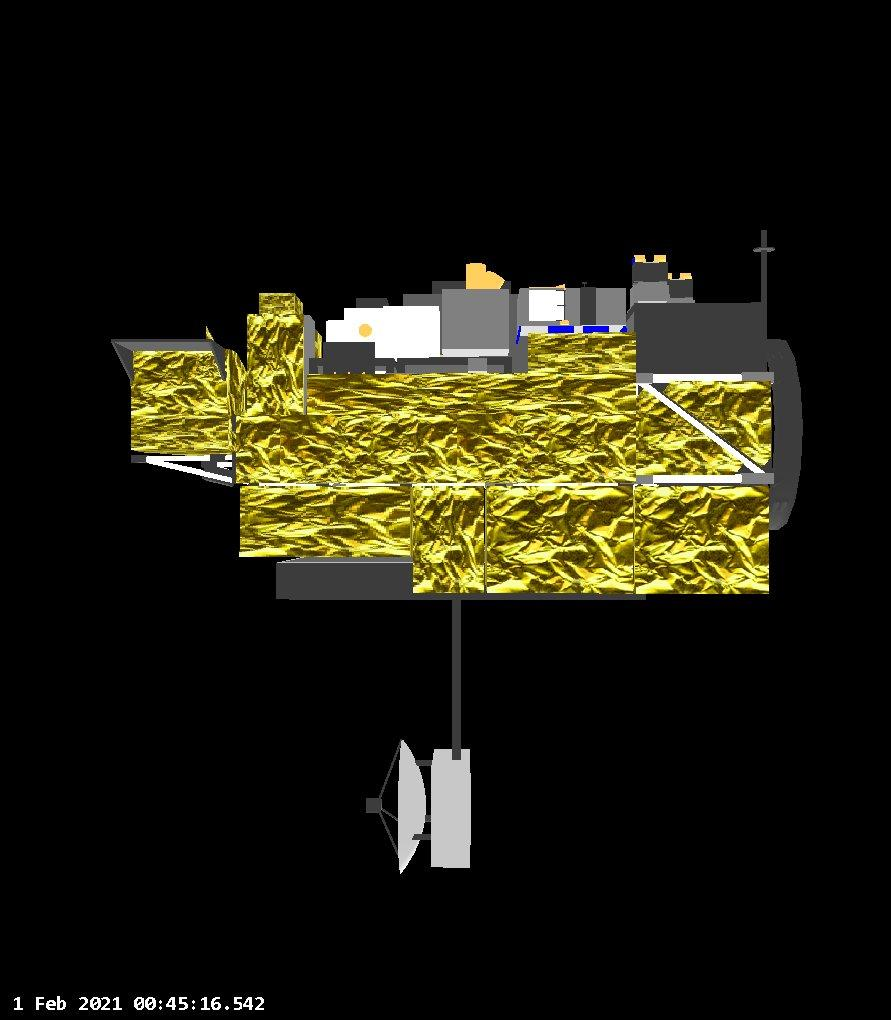antenna: (355, 728, 443, 889), (740, 214, 782, 356)
body: (89, 267, 780, 616)
